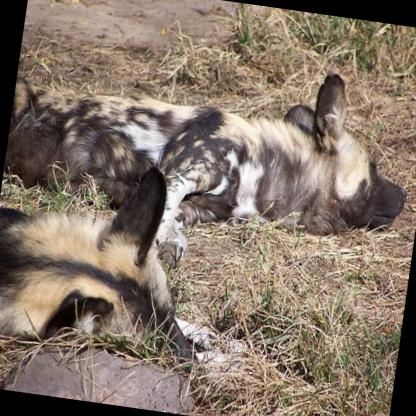African_hunting_dog: (0, 29, 416, 297), (0, 144, 223, 377)
